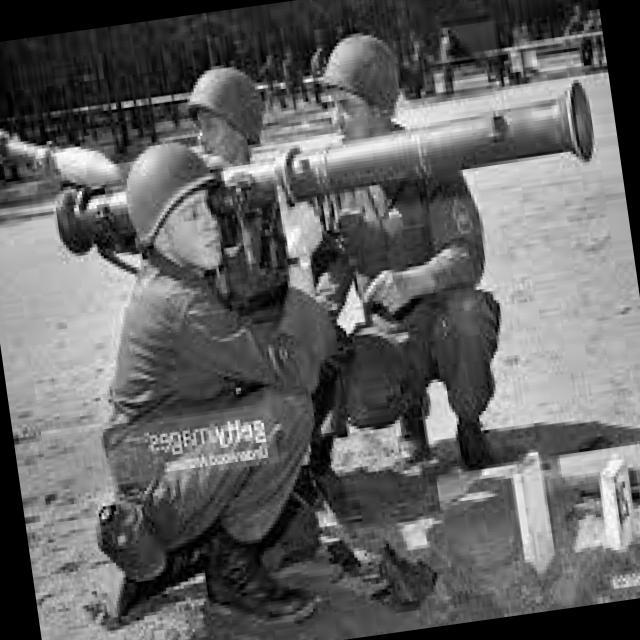rocket: (49, 73, 602, 260)
